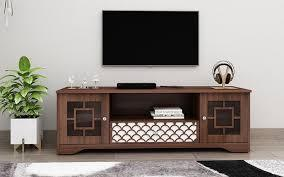TV: (97, 11, 200, 67)
console: (59, 85, 257, 157)
